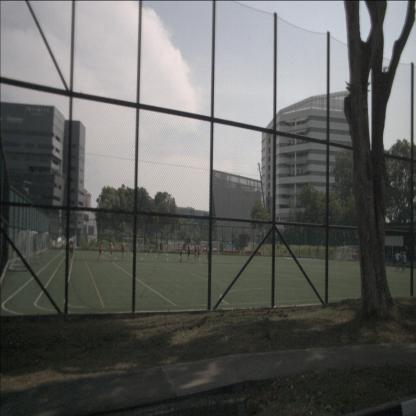human-pedestrian-adult: (396, 249, 402, 272), (400, 251, 404, 272), (187, 242, 191, 263), (403, 251, 406, 271)
movable_object-barrier: (254, 251, 262, 256), (224, 250, 232, 255), (245, 251, 253, 255), (232, 250, 240, 254), (211, 249, 218, 253)
